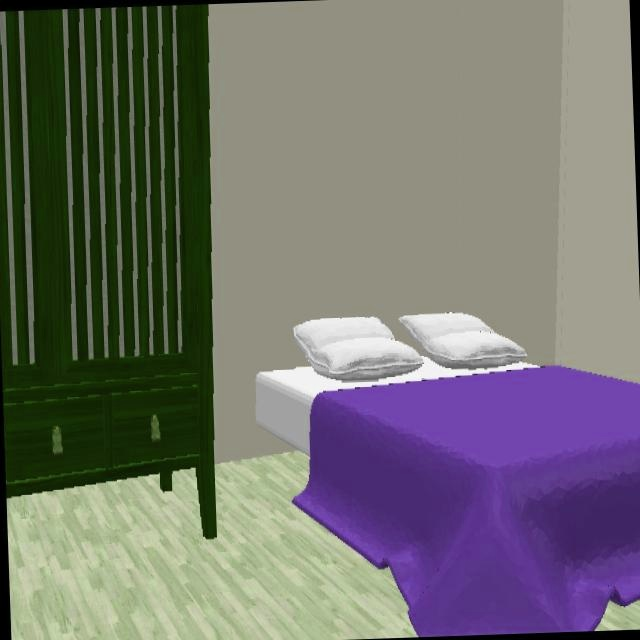bed: (256, 311, 640, 637)
pillow: (292, 318, 424, 381), (398, 314, 526, 367)
wardrobe: (0, 4, 216, 538)
